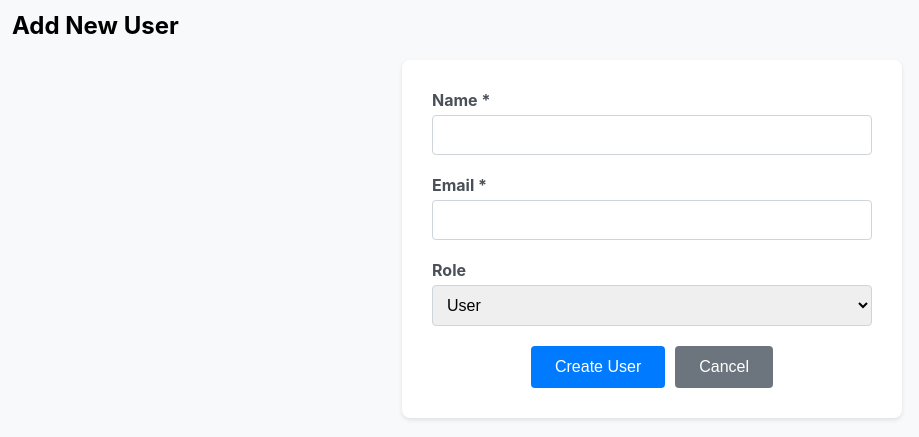
AddUser Component › disables form during submission
Step 1. Type "Test User" into the field labelled "Name *" → (652,135), box [432,115,872,155]
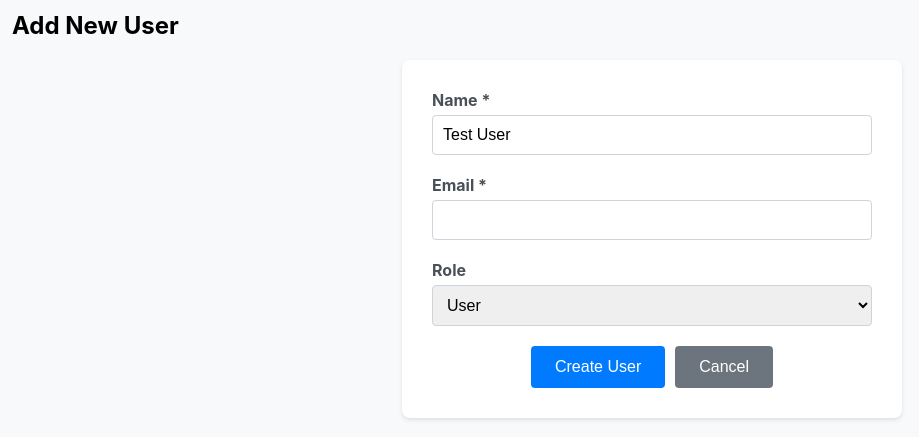
Step 2. Type "test@example.com" into the field labelled "Email *" → (652,220), box [432,200,872,240]
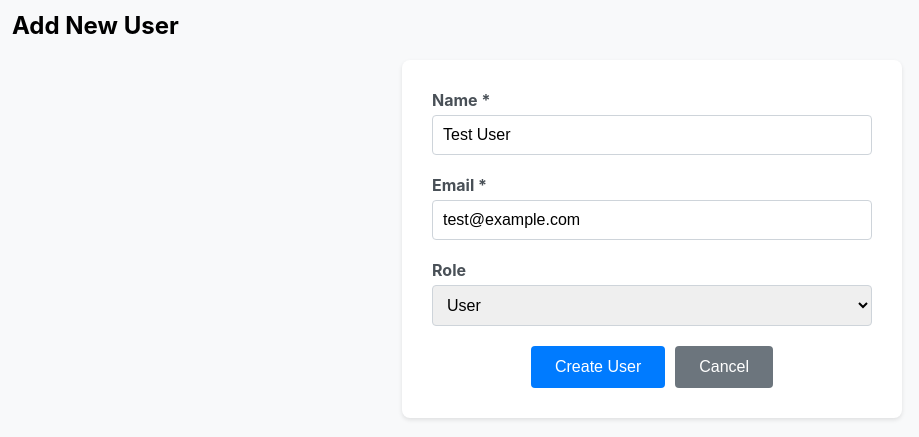
Step 3. Click the button "Create User" → (598,367), box [531,346,665,388]
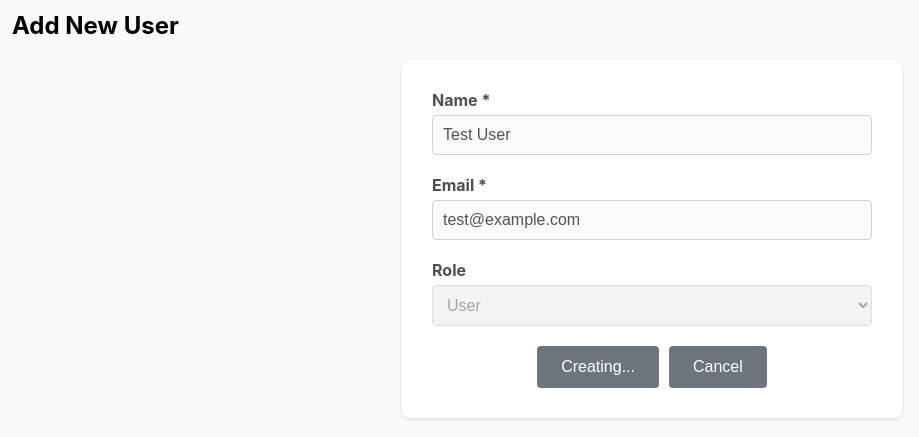
Result: the button "Creating..." is shown at [537,346,659,388]
Result: the field labelled "Name *" is disabled at [432,115,872,155]
Result: the field labelled "Email *" is disabled at [432,200,872,240]
